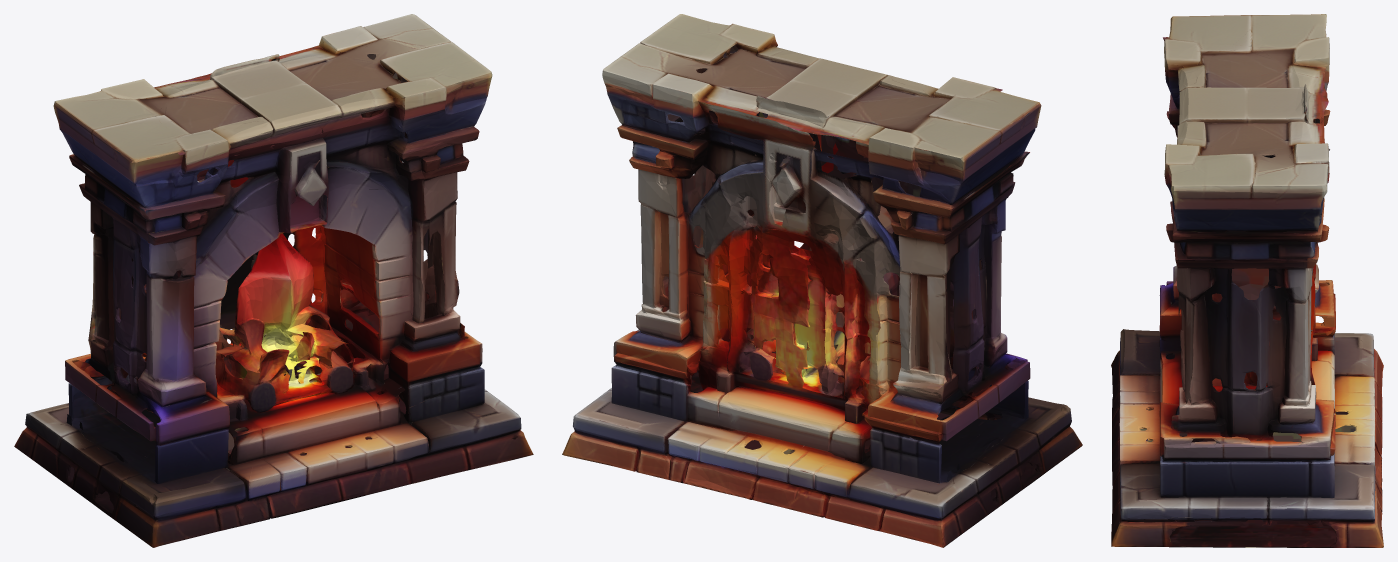
The model's file is typical_misc_fireplace_teacache_f3c.glb.
3 views of the same model, side by side, from view 1: azimuth 30°, elevation 25°; view 2: azimuth 150°, elevation 25°; view 3: azimuth 270°, elevation 25° (orthographic). The views are drawn at different scales.
Parts seen in each view (by area): view 1: world; view 2: world; view 3: world.
Part boxes in pixels (<box>): world: <box>14,14,533,547</box>; world: <box>562,14,1082,547</box>; world: <box>1111,14,1383,547</box>.
Bounding box in the file's own units: 1 × 0.9239 × 0.6334.
Materials: 1 (1 with a texture image).
